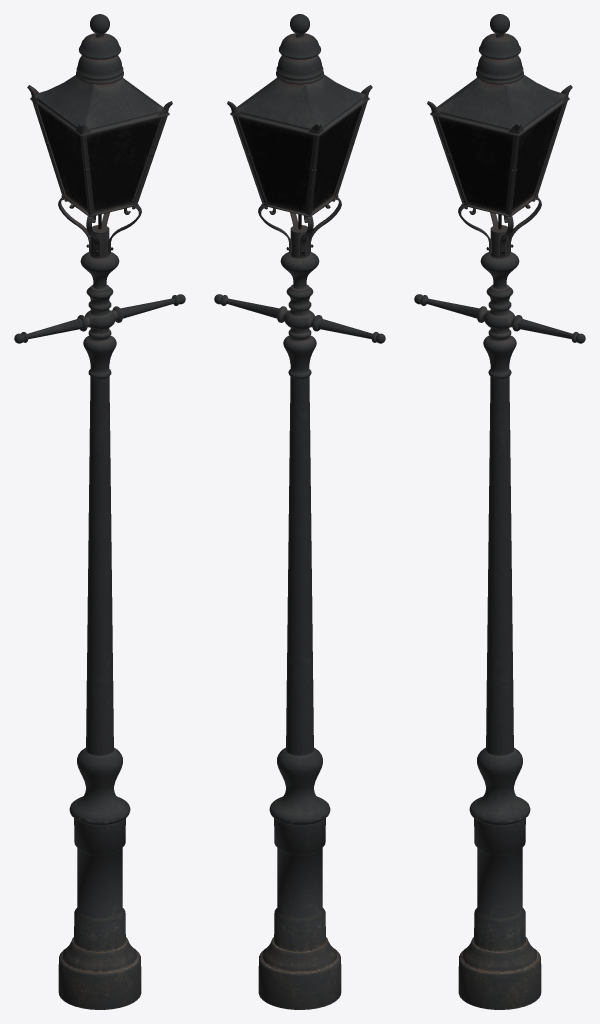
Rendered from street_lamp_01.fbx.
3 views of the same model, side by side, from view 1: azimuth 30°, elevation 25°; view 2: azimuth 150°, elevation 25°; view 3: azimuth 330°, elevation 25° (orthographic).
Parts seen in each view (by area): view 1: street_lamp_01; view 2: street_lamp_01; view 3: street_lamp_01.
Part boxes in pixels (box(x1,y1,x2,y2)): street_lamp_01: box(14, 14, 185, 1009); street_lamp_01: box(214, 14, 385, 1009); street_lamp_01: box(414, 14, 585, 1009).
Size of the model in its own units: 70.44 by 387 by 38.66.
